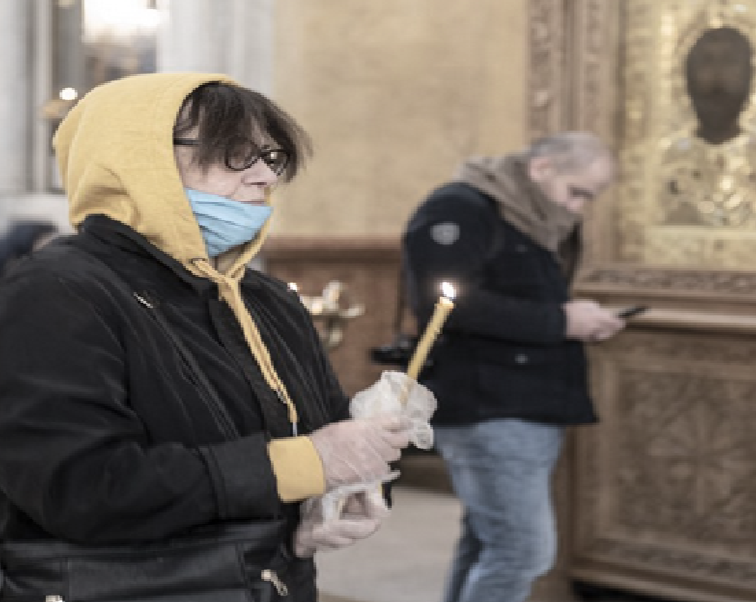mask_weared_incorrect: (60, 72, 294, 257)
